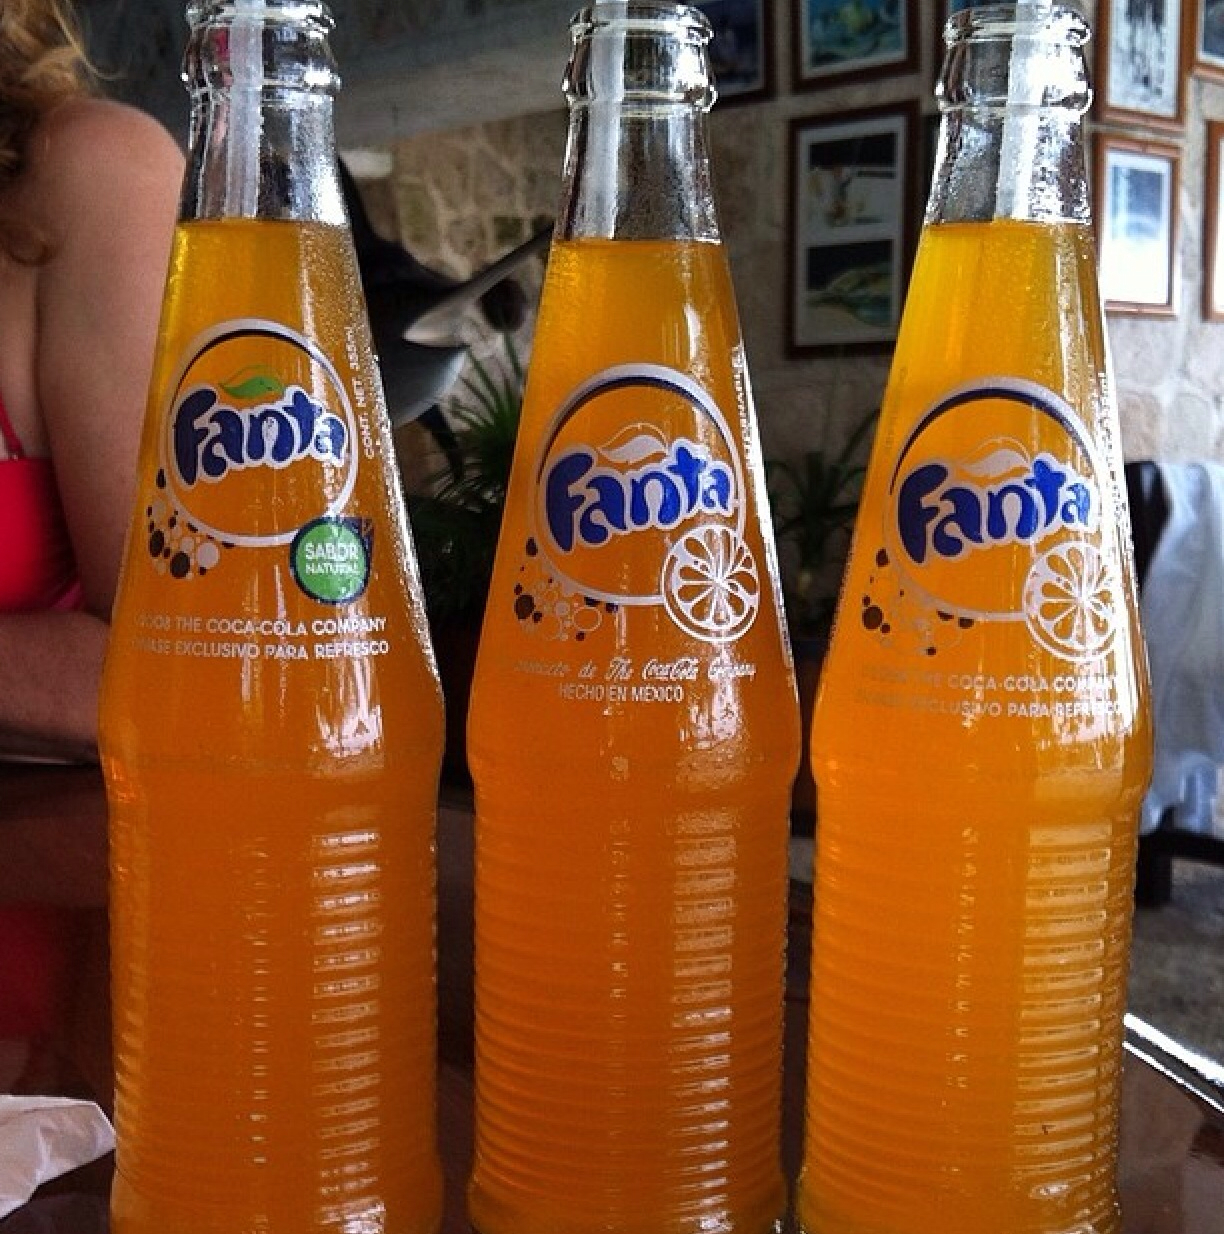fanta: (113, 49, 439, 1226), (817, 54, 1113, 1234), (483, 49, 779, 1226)
